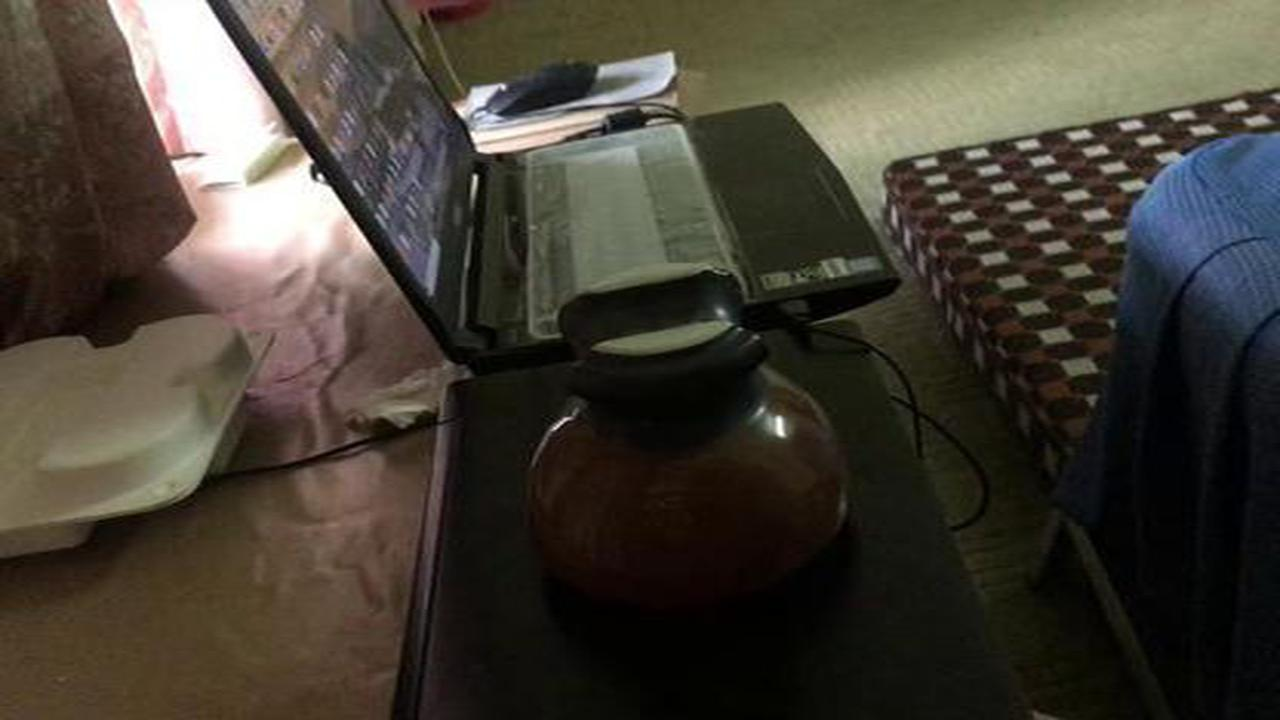insulator_pin: (484, 252, 881, 646)
